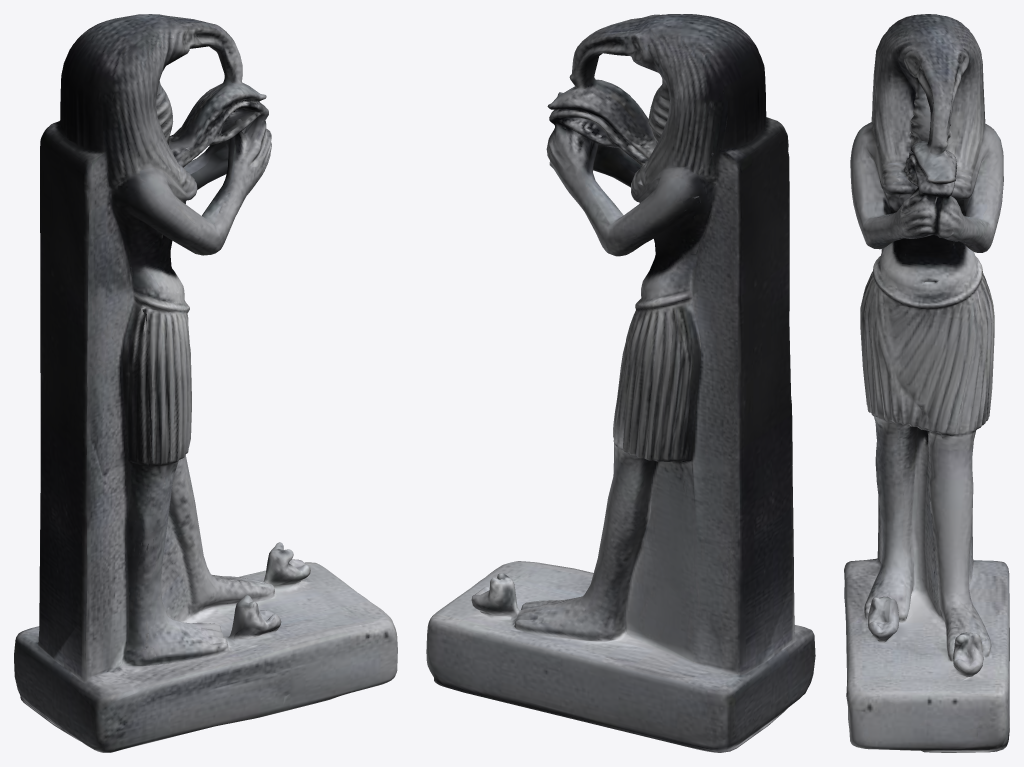
File: thoth.lean.glb
3 renders of one model, left to right at view 1: azimuth 30°, elevation 25°; view 2: azimuth 150°, elevation 25°; view 3: azimuth 270°, elevation 25°, orthographic. The views are drawn at different scales.
Visible parts, largest first — view 1: node_0; view 2: node_0; view 3: node_0.
Part boxes in pixels (box(x1,y1,x2,y2)): node_0: box(14, 14, 397, 752); node_0: box(426, 14, 815, 752); node_0: box(844, 14, 1009, 752).
Bounding box in the file's own units: 0.5043 × 1.08 × 0.2567.
Materials: 1 (1 with a texture image).
